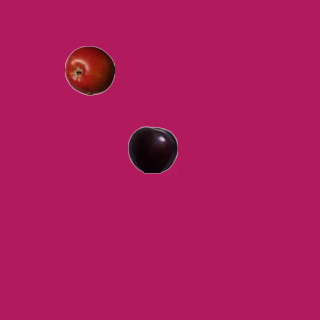Apple Braeburn: (64, 45, 114, 95)
Cherry Wax Black: (127, 124, 177, 174)
